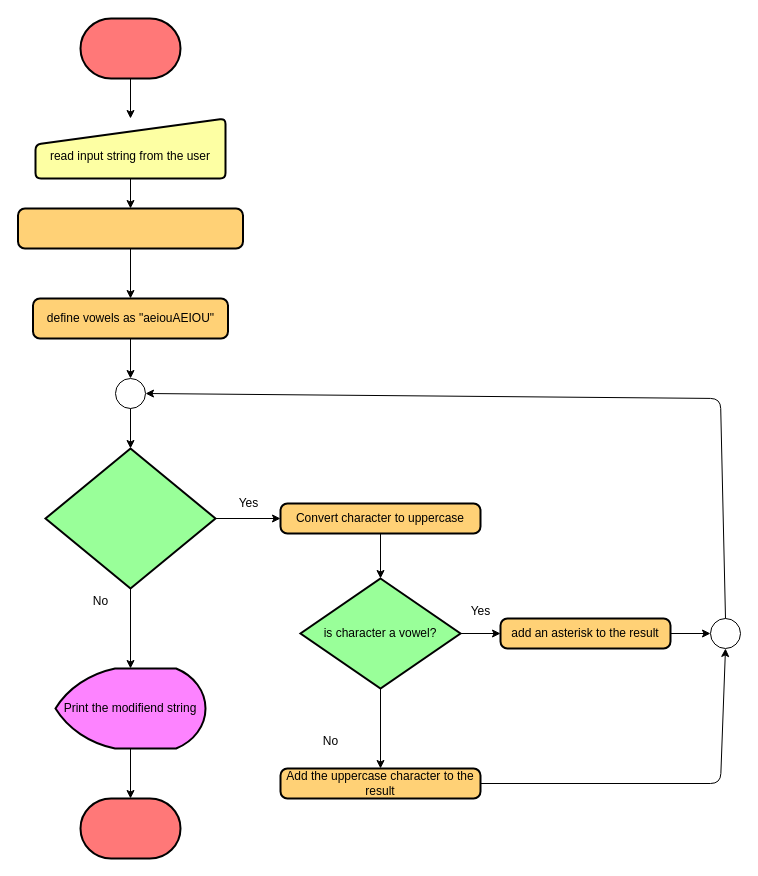
This 758x876 diagram has some shape labels left out. Here are the shapes that lost their labels. From the top down, the centre of each, then its label:
At (130,48): "Start".
At (130,228): "intialize an empty string fox for the result".
At (130,518): "More characters in string?".
At (130,828): "End".
